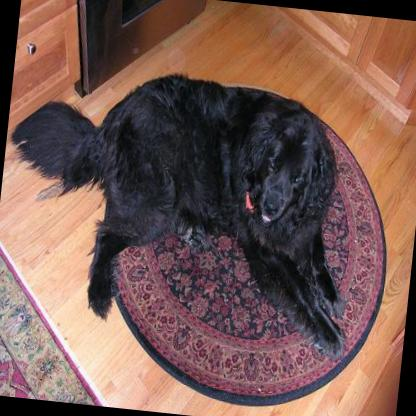Newfoundland: (0, 53, 369, 357)
